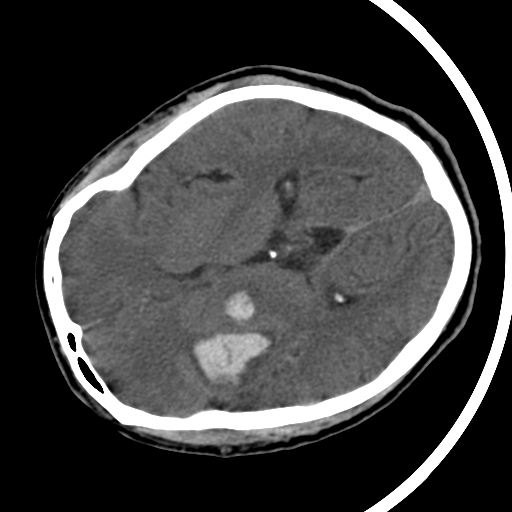a: (165, 269, 291, 402)
